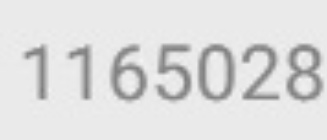TextView: (1, 1, 326, 139)
